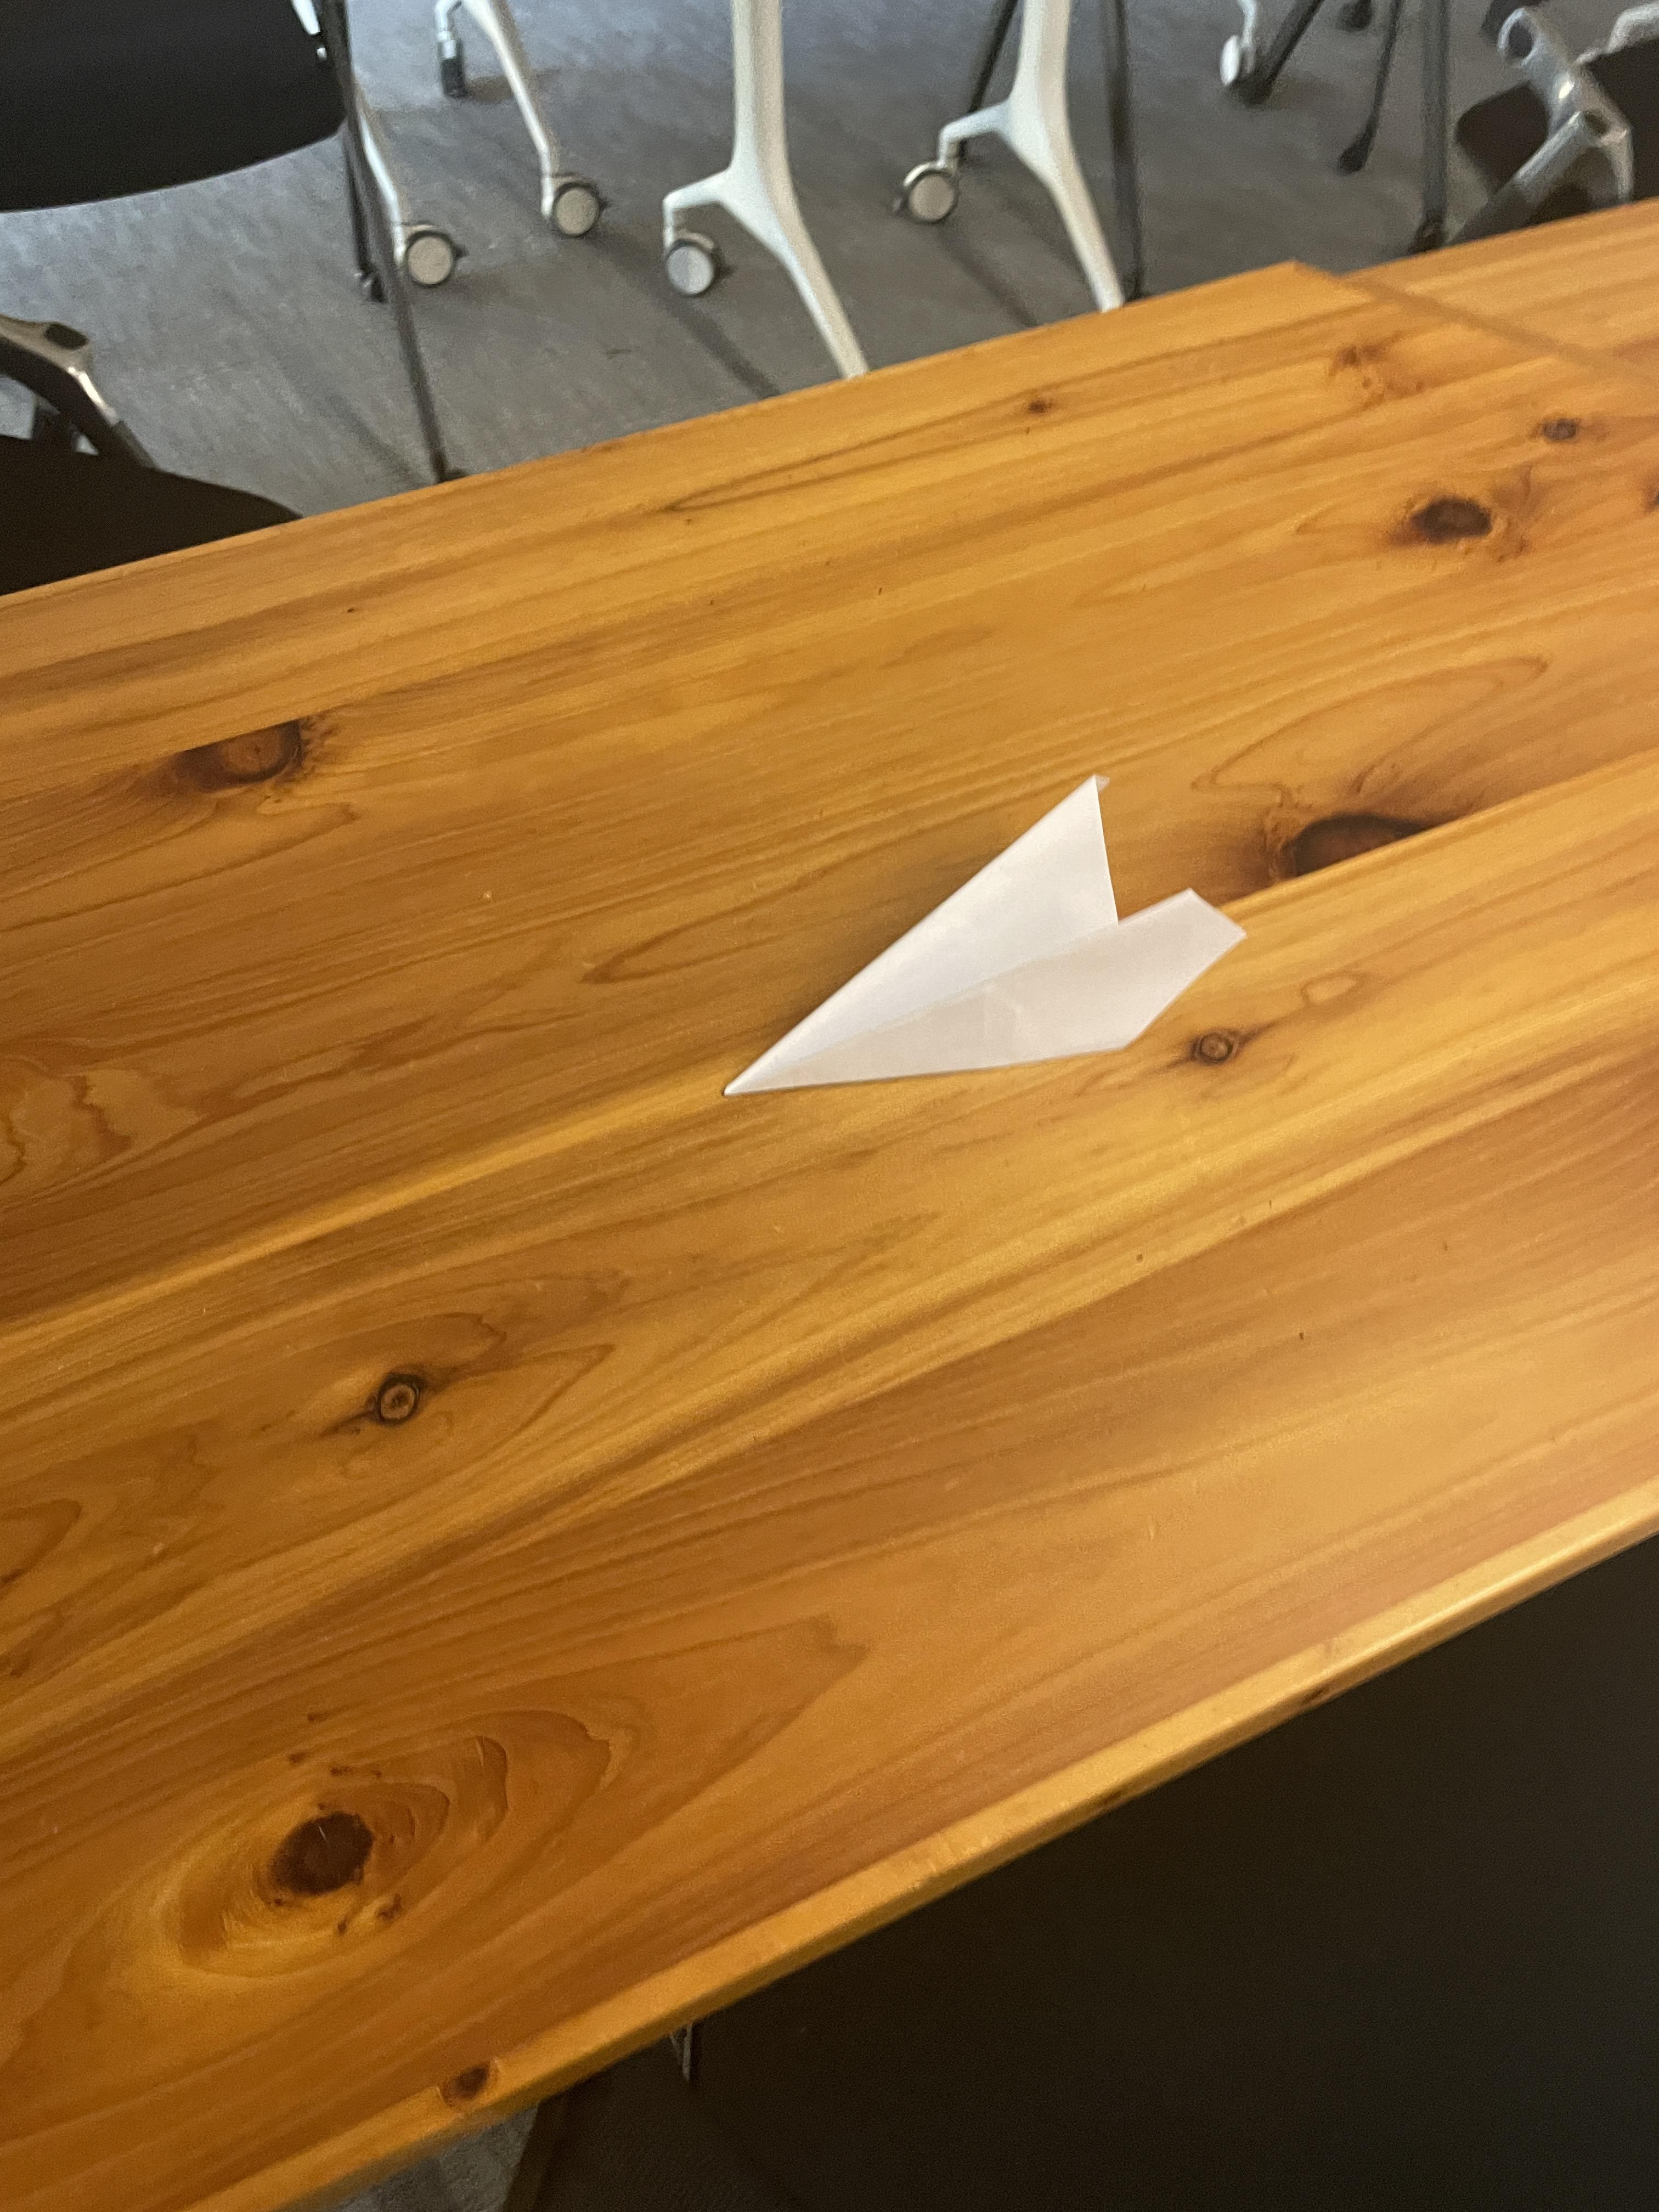shape_3: (653, 719, 1276, 1235)
